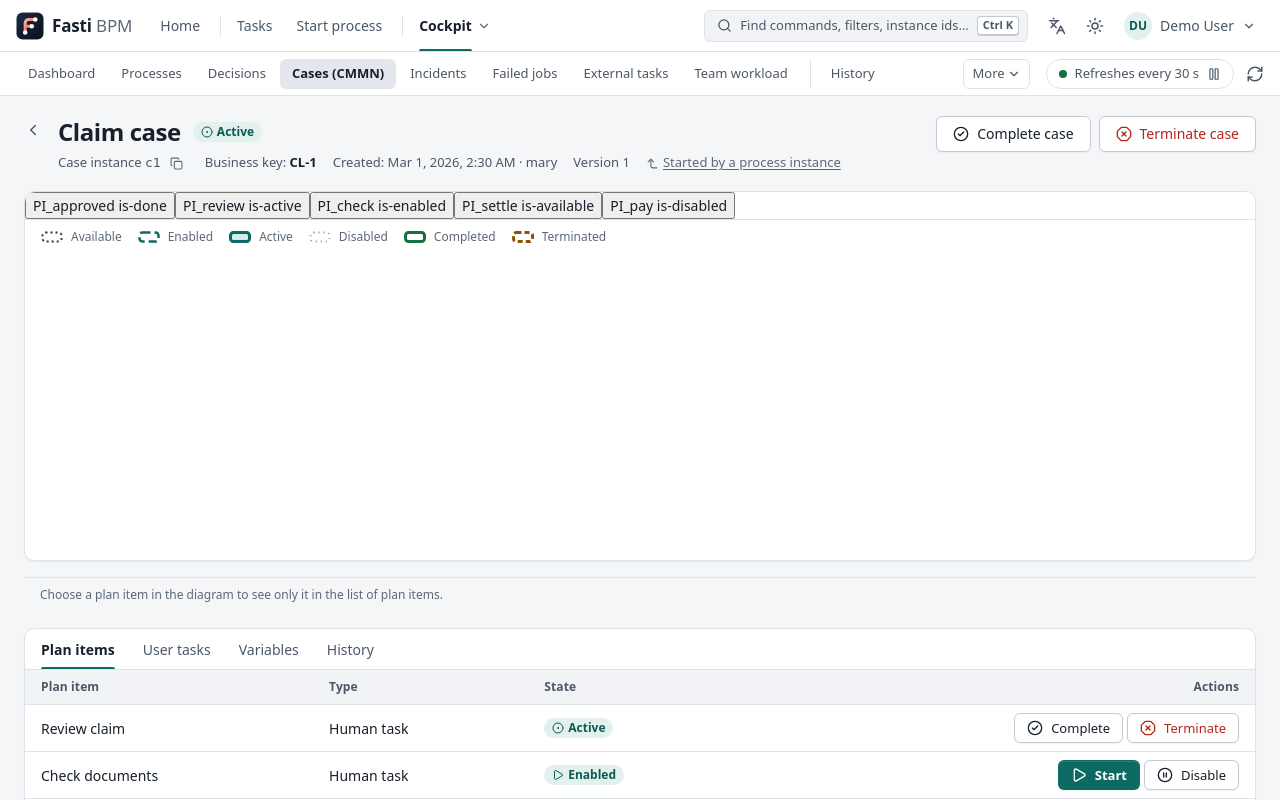
Test: a case instance › marks the plan items on the diagram and filters the list by the chosen one
Later steps or results of the test are not shown.
Expected: the button "PI_review is-active" is shown, [175,192,310,219]
Expected: the button "PI_pay is-disabled" is shown, [602,192,735,219]
Click the button "PI_check is-enabled".
click(382, 206)  # box [310,192,454,219]
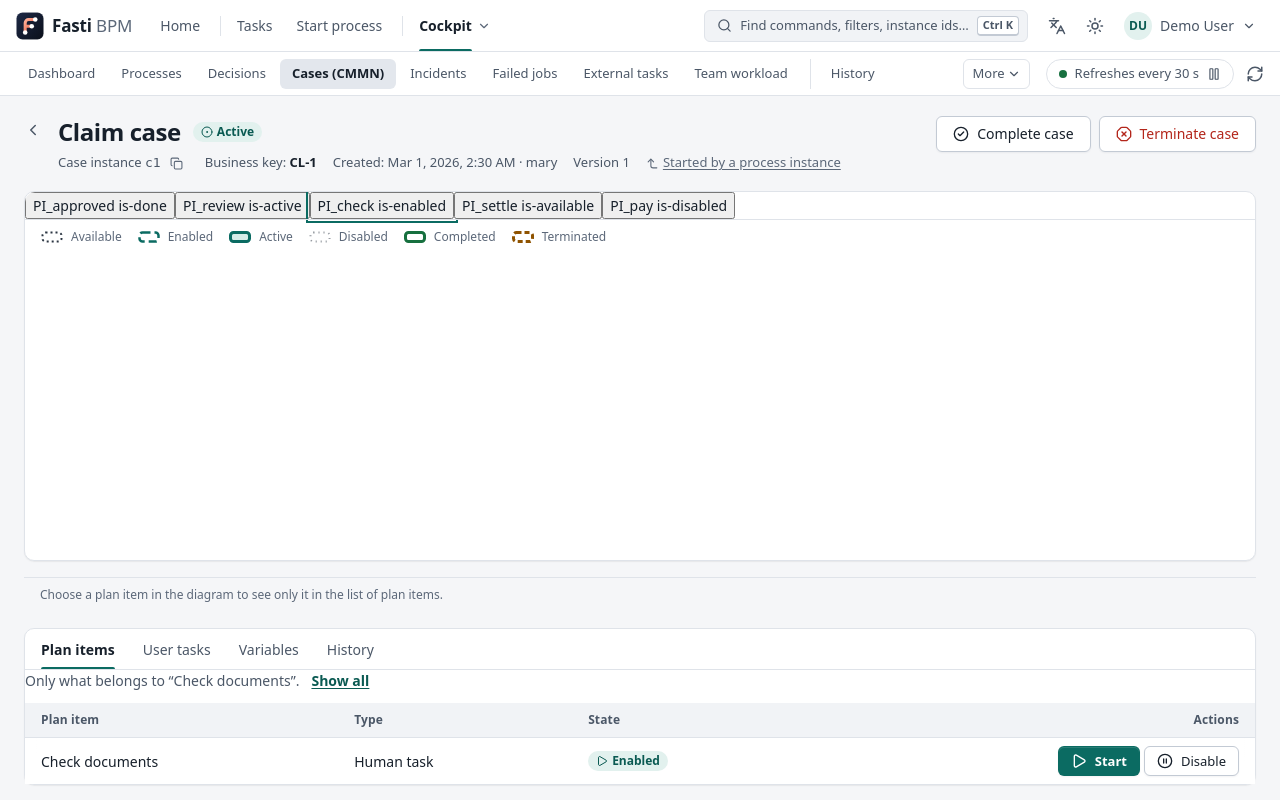
Expected: the number of rows is 2, [25,703,1255,738]; [25,738,1255,784]
Expected: the text "Only what belongs to “Check documents”." is shown, [25,670,299,691]
